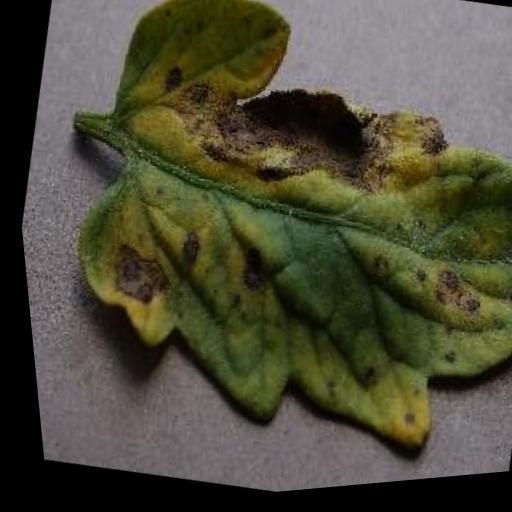Early Blight: (19, 0, 512, 504)
